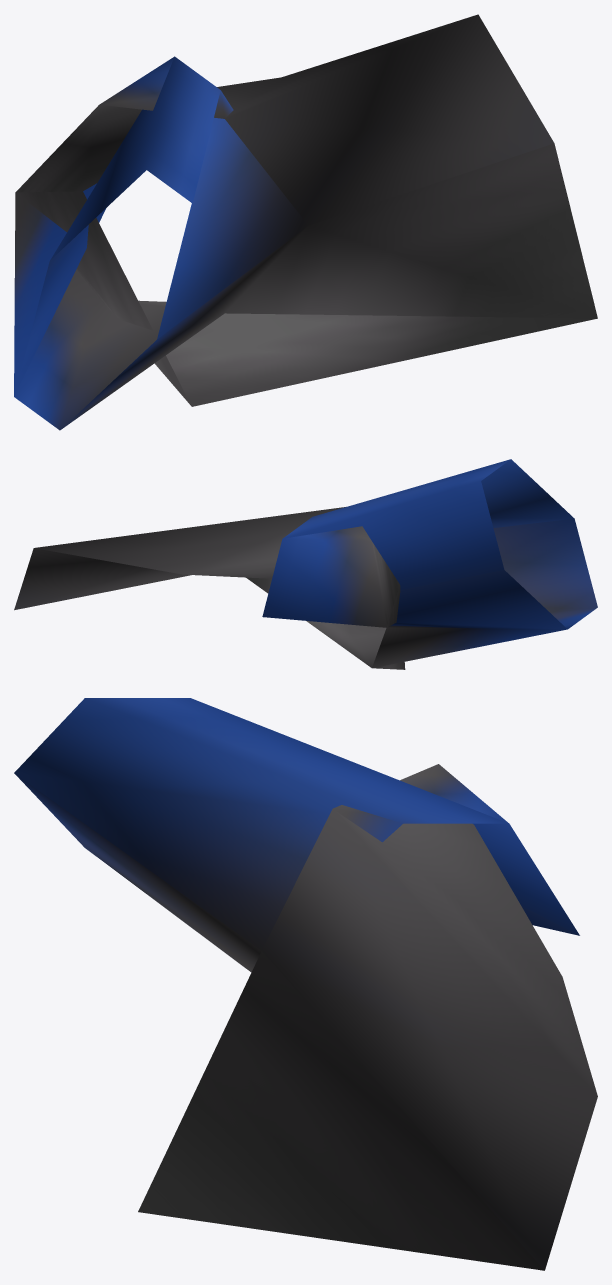
File: batch_0043.obj
3 renders of one model, top to bottom at view 1: azimuth 30°, elevation 25°; view 2: azimuth 150°, elevation 25°; view 3: azimuth 270°, elevation 25°, orthographic. The views are drawn at different scales.
Visible parts, largest first — view 1: batch_0043; view 2: batch_0043; view 3: batch_0043.
Boxes of the visible parts, bbox=[...] form: batch_0043: bbox=[14, 14, 597, 430]; batch_0043: bbox=[14, 459, 597, 669]; batch_0043: bbox=[14, 698, 597, 1270].
Size of the model in its own units: 13.72 by 5.34 by 8.66.
Materials: 1 (1 with a texture image).
